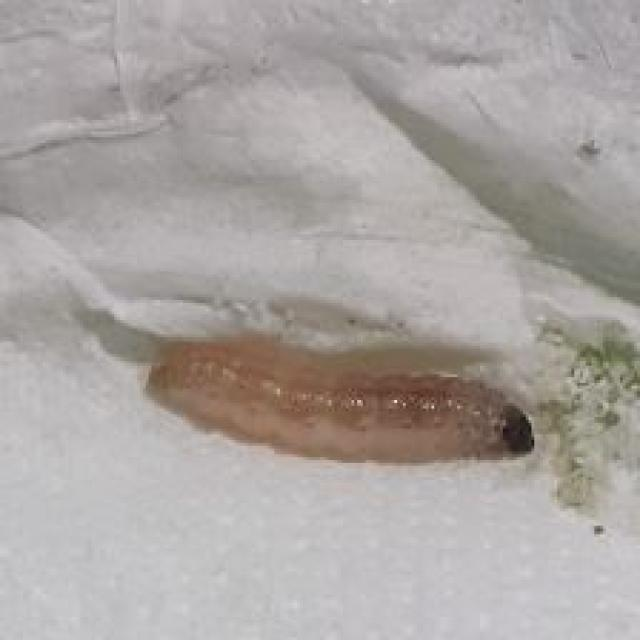white mucus: (140, 346, 545, 498)
